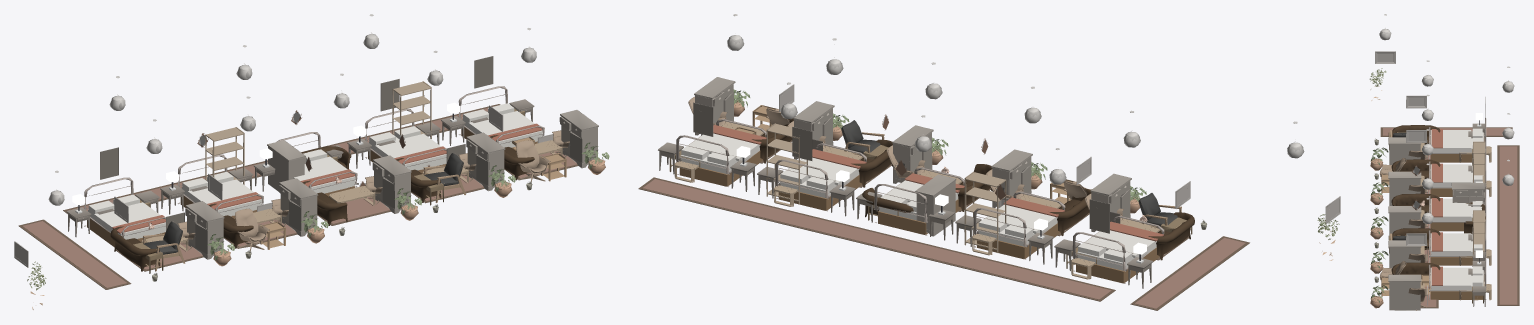
Rendered from fine-s1.glb.
3 views of the same model, side by side, from view 1: azimuth 30°, elevation 25°; view 2: azimuth 150°, elevation 25°; view 3: azimuth 270°, elevation 25° (orthographic). The views are drawn at different scales.
Visible parts, largest first — view 1: soft-s1, dresser.001, dresser.002, dresser.004, dresser.000, dresser.005, dresser.003, shelving.005, shelving.006, office-chair-real.003, office-chair-real.002, sofa.001 (+20 smaller); view 2: soft-s1, shelving.005, dresser.003, dresser.001, dresser.002, shelving.006, dresser.005, dresser.000, dresser.004, sofa.001, office-chair-real.003, sofa.002 (+12 smaller); view 3: soft-s1, dresser.005, dresser.001, dresser.002, dresser.003, dresser.000, dresser.004, sofa.003, shelving.005, shelving.006, sofa.002, sofa.006 (+41 smaller).
Part boxes in pixels (x1,y1,x2,y2): soft-s1: [18, 102, 578, 289]; dresser.001: [279, 178, 318, 236]; dresser.002: [372, 155, 411, 213]; dresser.004: [466, 132, 505, 191]; dresser.000: [185, 201, 224, 259]; dresser.005: [559, 110, 598, 168]; dresser.003: [267, 140, 306, 191]; shelving.005: [205, 127, 244, 184]; shelving.006: [392, 81, 431, 138]; office-chair-real.003: [423, 153, 465, 202]; office-chair-real.002: [143, 221, 185, 271]; sofa.001: [110, 226, 160, 271]; soft-s1: [638, 125, 1249, 310]; shelving.005: [964, 171, 1006, 252]; dresser.003: [915, 174, 956, 236]; dresser.001: [991, 149, 1032, 207]; dresser.002: [892, 125, 933, 183]; shelving.006: [766, 123, 807, 204]; dresser.005: [694, 77, 735, 135]; dresser.000: [1090, 173, 1131, 231]; dresser.004: [793, 101, 834, 159]; sofa.001: [1148, 212, 1194, 260]; office-chair-real.003: [841, 120, 884, 156]; sofa.002: [1049, 188, 1091, 235]; soft-s1: [1380, 113, 1519, 308]; dresser.005: [1388, 274, 1421, 310]; dresser.001: [1388, 171, 1421, 205]; dresser.002: [1388, 206, 1421, 235]; dresser.003: [1451, 182, 1484, 204]; dresser.000: [1388, 137, 1421, 164]; dresser.004: [1388, 240, 1421, 268]; sofa.003: [1391, 193, 1440, 213]; shelving.005: [1473, 141, 1485, 185]; shelving.006: [1473, 210, 1485, 260]; sofa.002: [1391, 159, 1440, 178]; sofa.006: [1391, 262, 1440, 278].
Size of the model in its own units: 18.47 by 3.86 by 5.44.
